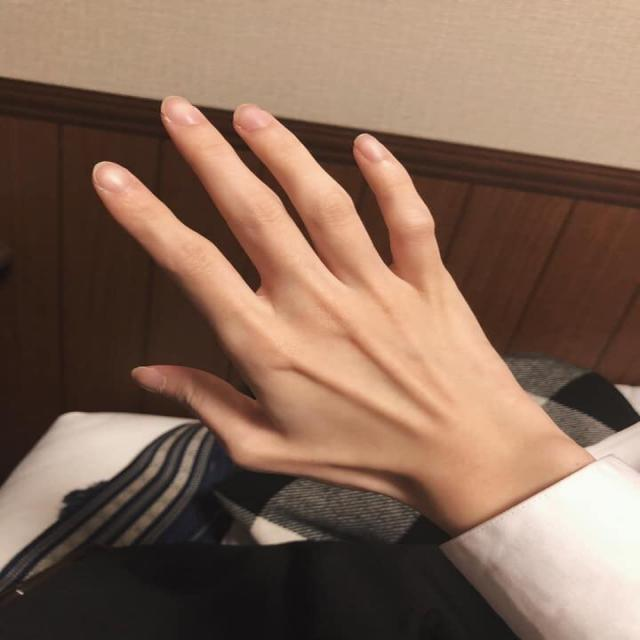bare_hand: (89, 94, 589, 538)
